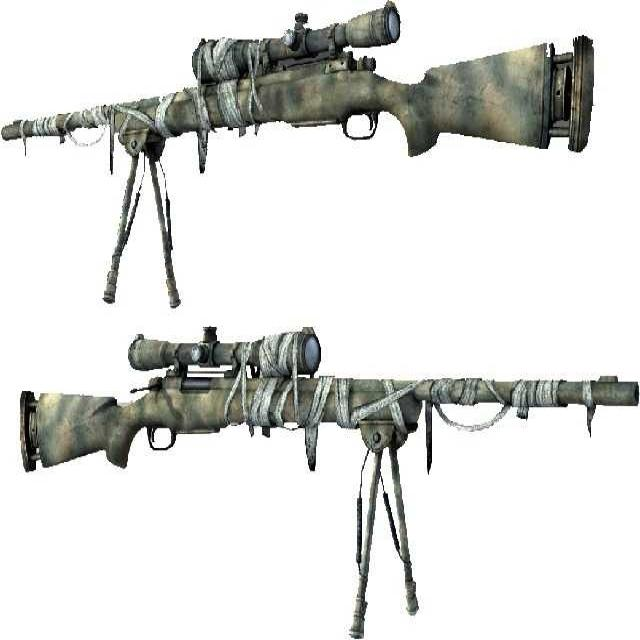heavyweapon: (9, 314, 640, 483), (6, 11, 613, 174)
